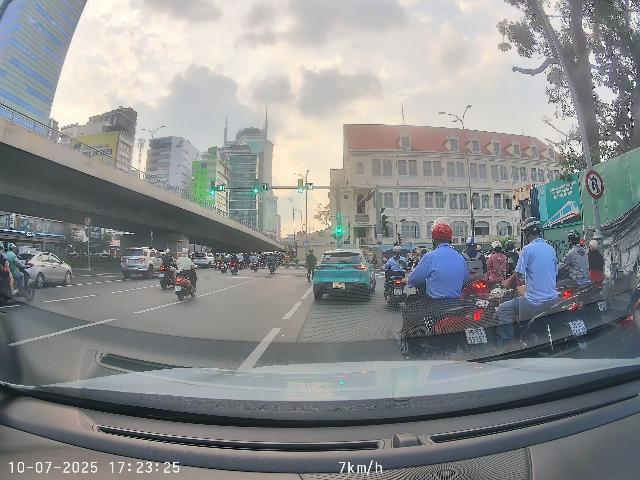124a-cam-quay-dau-xe: (585, 170, 604, 199)
